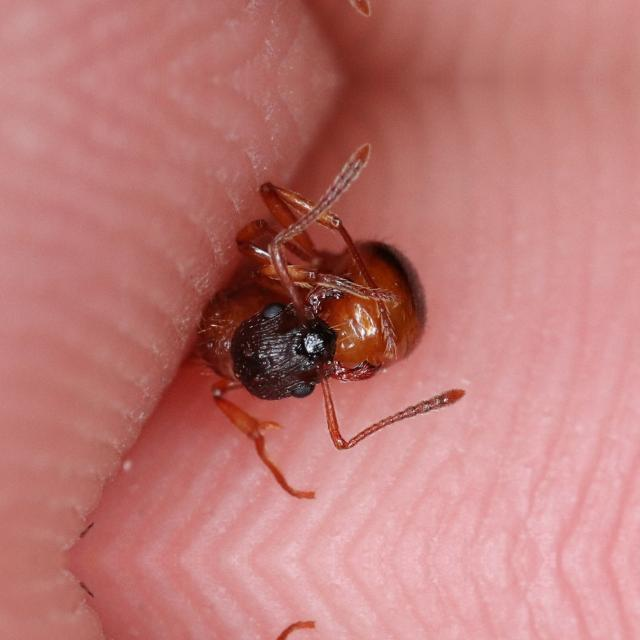Myrmica: (148, 119, 456, 475)
